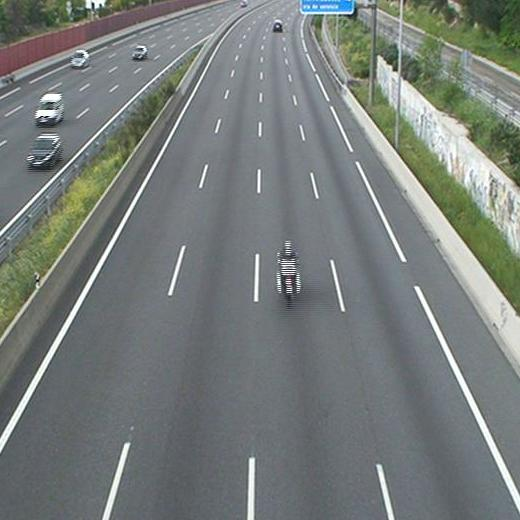car: (272, 20, 283, 31)
motorcycle: (276, 239, 302, 306)
